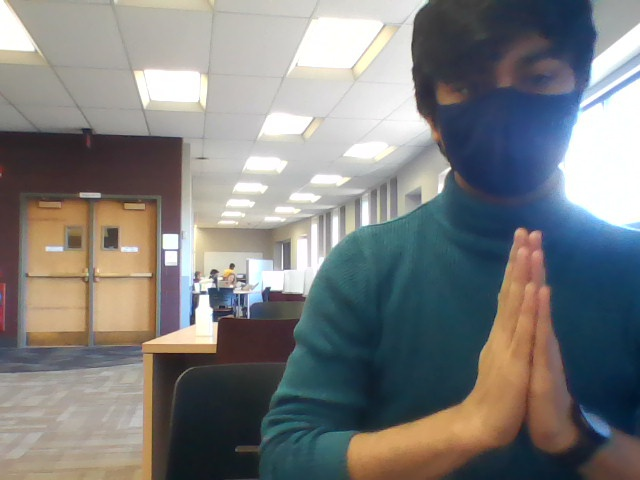start: (481, 223, 590, 453)
